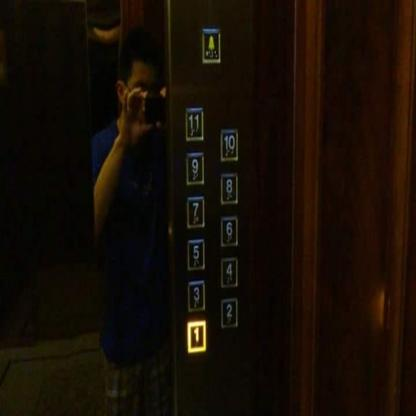1: (186, 318, 208, 355)
10: (218, 126, 240, 163)
11: (184, 104, 203, 142)
2: (218, 295, 240, 331)
3: (185, 277, 207, 314)
4: (218, 254, 240, 290)
5: (184, 237, 206, 273)
6: (218, 212, 240, 249)
7: (184, 192, 206, 229)
8: (218, 170, 240, 206)
9: (184, 150, 206, 186)
alarm: (200, 25, 222, 65)
